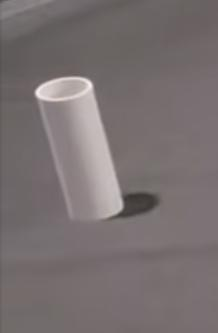coral: (34, 76, 125, 222)
